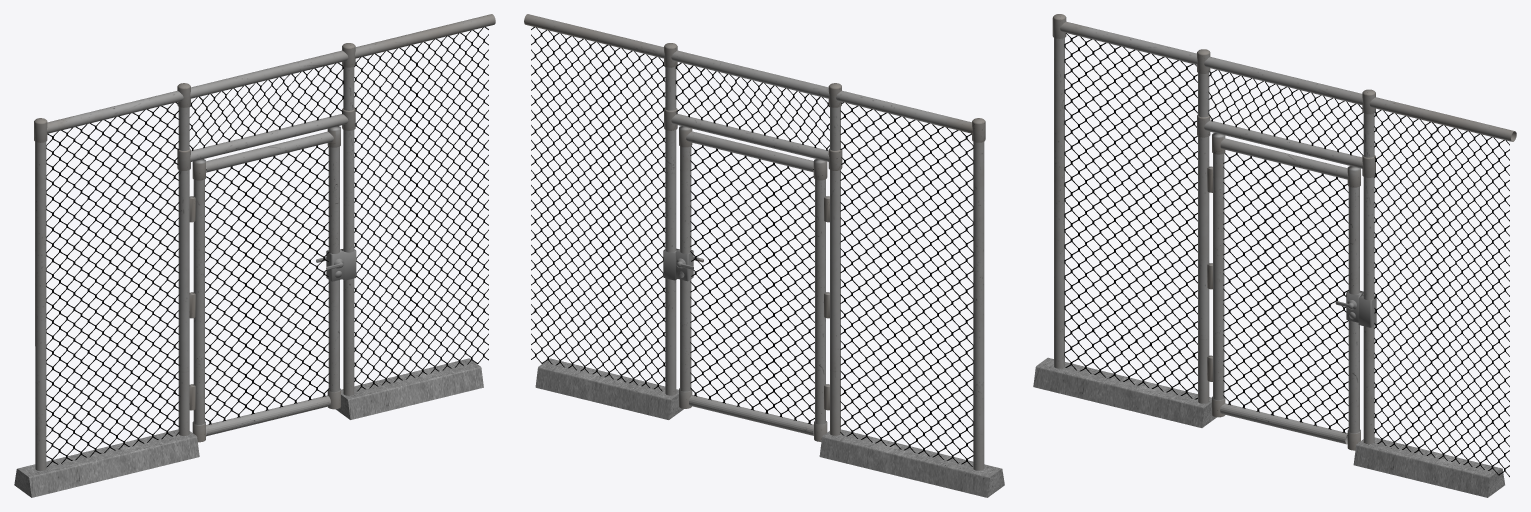
File: chain_curb_door_straight.fbx
The picture shows the model from 3 angles, left to right: view 1: azimuth 30°, elevation 25°; view 2: azimuth 150°, elevation 25°; view 3: azimuth 330°, elevation 25°; orthographic projection.
Visible parts, largest first — view 1: chain_curb_door_straight; view 2: chain_curb_door_straight; view 3: chain_curb_door_straight.
Boxes of the visible parts, <box> form: chain_curb_door_straight: <box>14,14,495,497</box>; chain_curb_door_straight: <box>524,14,1004,497</box>; chain_curb_door_straight: <box>1033,14,1516,497</box>.
Bounding box in the file's own units: 3.12 × 2.33 × 0.2.
Materials: 2 (2 with a texture image).
